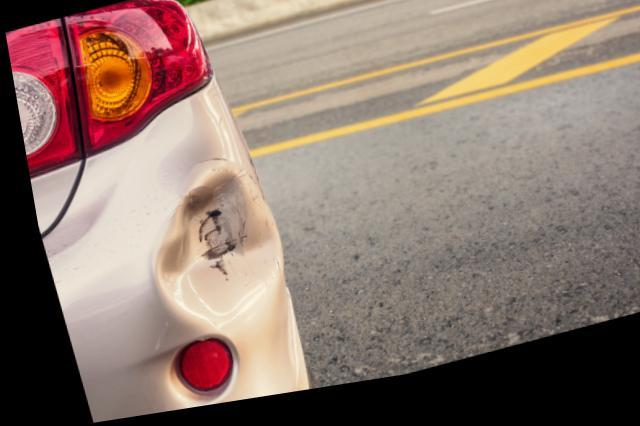dent: (145, 166, 275, 331)
